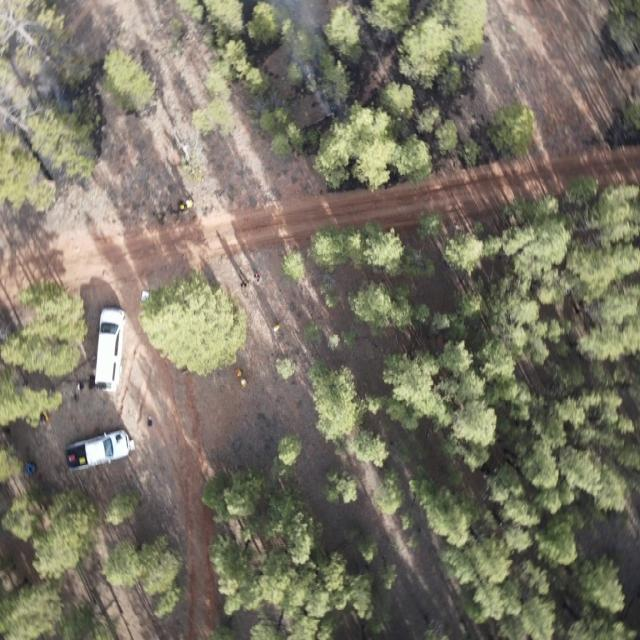smoke: (0, 14, 100, 151), (257, 0, 348, 114)
